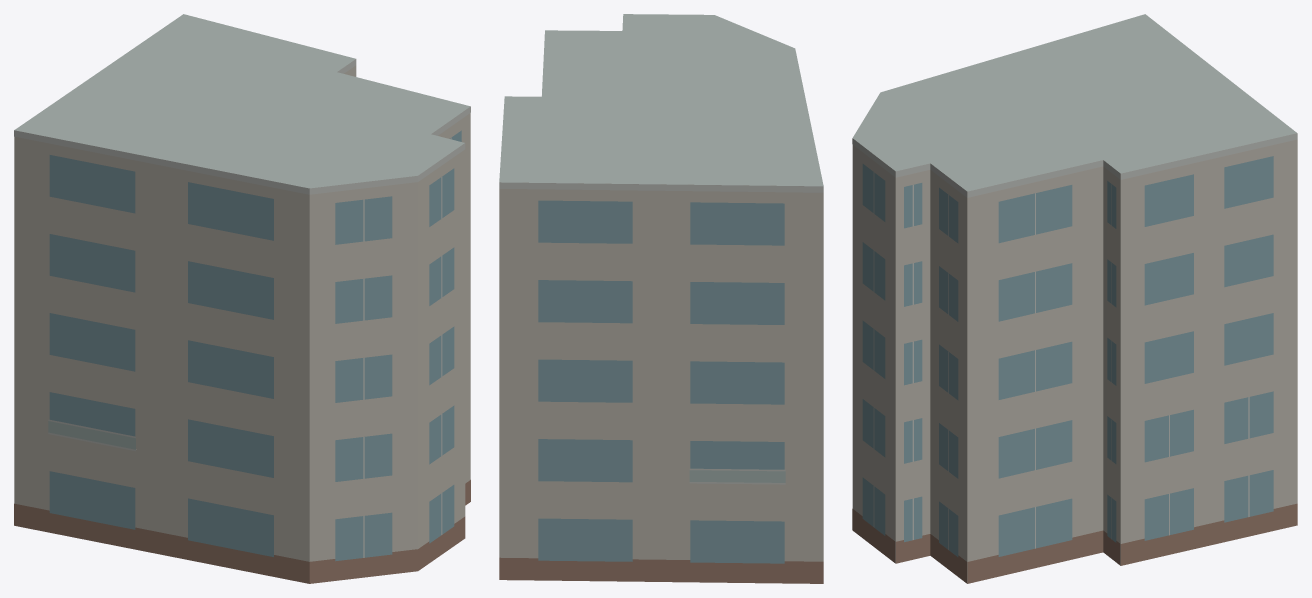
File: survey-upis-33045905.glb
3 renders of one model, left to right at view 1: azimuth 30°, elevation 25°; view 2: azimuth 150°, elevation 25°; view 3: azimuth 270°, elevation 25°, orthographic.
Parts seen in each view (by area): view 1: survey-upis-33045905.tmp; view 2: survey-upis-33045905.tmp; view 3: survey-upis-33045905.tmp.
Boxes of the visible parts, x1,y1,x2,y2 form: survey-upis-33045905.tmp: (14,14,470,583); survey-upis-33045905.tmp: (499,14,823,583); survey-upis-33045905.tmp: (852,14,1297,583).
Size of the model in its own units: 14.77 by 15.2 by 15.64.
